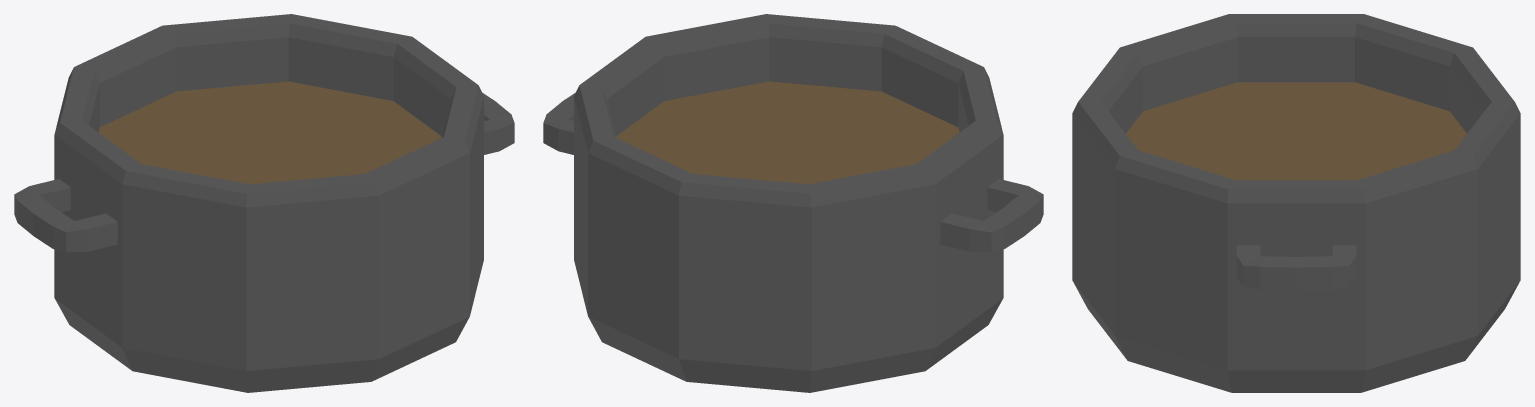
Rendered from CookingPot_Soup.glb.
3 renders of one model, left to right at view 1: azimuth 30°, elevation 25°; view 2: azimuth 150°, elevation 25°; view 3: azimuth 270°, elevation 25°, orthographic. The views are drawn at different scales.
Visible parts, largest first — view 1: CookingPot_Soup; view 2: CookingPot_Soup; view 3: CookingPot_Soup.
Part boxes in pixels (x1,y1,x2,y2): CookingPot_Soup: [14, 14, 514, 392]; CookingPot_Soup: [543, 14, 1043, 392]; CookingPot_Soup: [1072, 14, 1520, 392].
Bounding box in the file's own units: 2.42 × 1.08 × 1.99.
